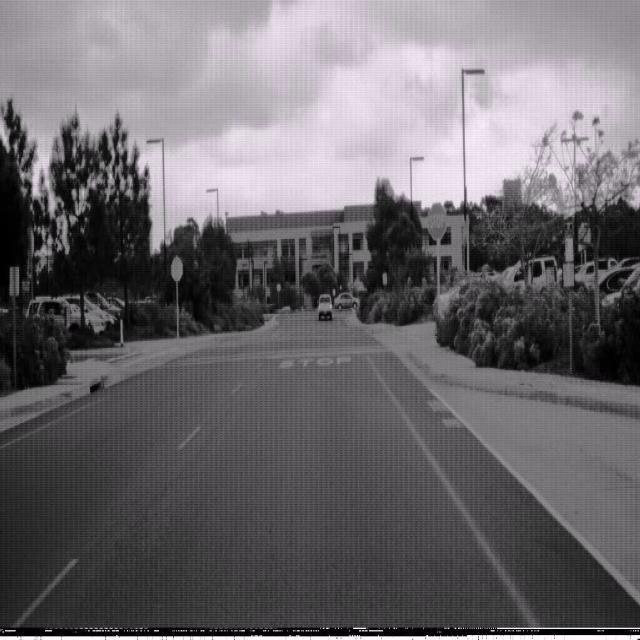stop: (427, 201, 447, 240)
